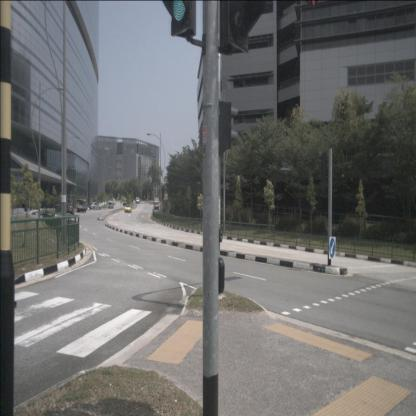human-pedestrian-adult: (168, 204, 172, 215)
vehicle-car: (64, 202, 75, 216), (89, 202, 101, 210), (124, 204, 132, 213), (108, 201, 113, 209), (135, 197, 140, 204), (123, 198, 127, 206)
vehicle-truck: (77, 199, 87, 213), (154, 197, 159, 210)
